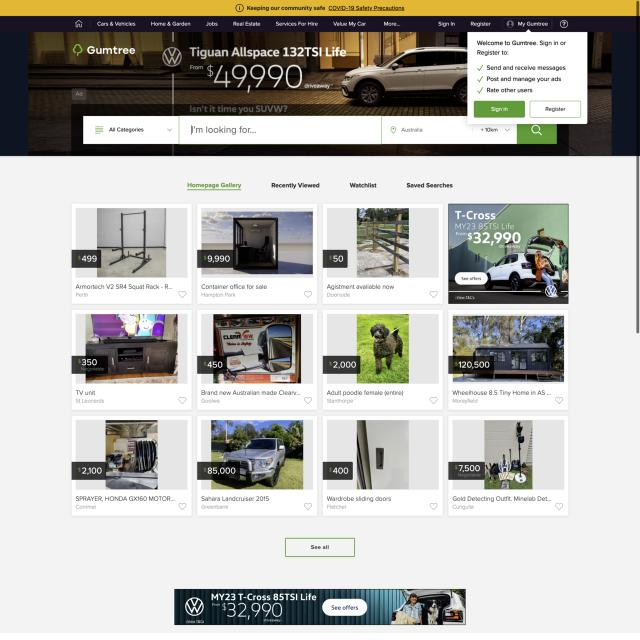CheckBox: (284, 537, 356, 559), (328, 4, 406, 12)
CheckedTextView: (180, 116, 382, 144)
ImageView: (22, 32, 466, 115), (449, 203, 568, 303), (174, 588, 466, 626)
ProgressBar: (0, 0, 636, 16)
Spinner: (71, 309, 191, 410)
TextView: (69, 201, 571, 518)
alert: (84, 116, 179, 145)
bag: (1, 0, 634, 156)
carousel: (178, 395, 187, 406), (235, 3, 244, 12)
copy: (75, 313, 188, 384)
data feed: (307, 542, 332, 550)
decoration: (69, 18, 406, 28), (182, 180, 455, 192)
label: (468, 29, 587, 125)
